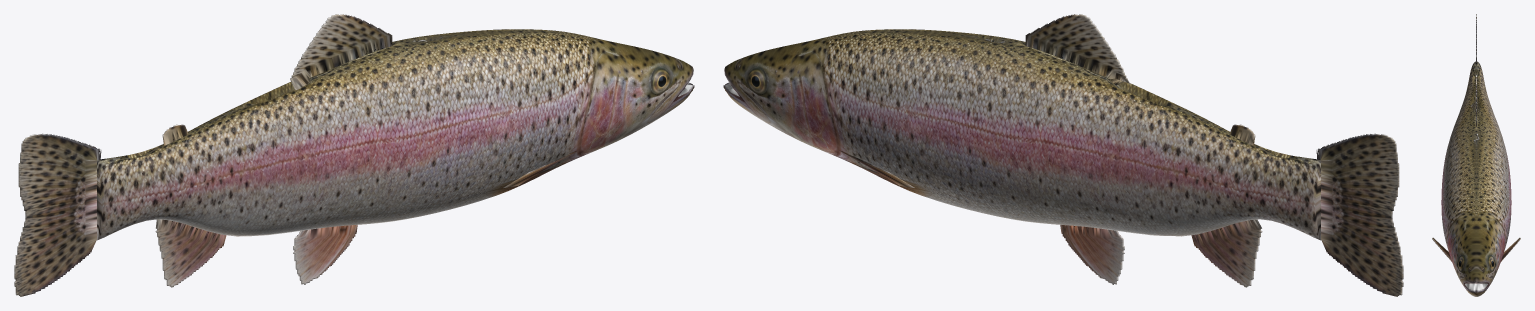
The model's file is rainbow_trout.glb.
3 renders of one model, left to right at view 1: azimuth 30°, elevation 25°; view 2: azimuth 150°, elevation 25°; view 3: azimuth 270°, elevation 25°, orthographic. The views are drawn at different scales.
Visible parts, largest first — view 1: rainbow_trout_realistic.003; view 2: rainbow_trout_realistic.003; view 3: rainbow_trout_realistic.003.
Boxes of the visible parts, left/top/right/bottom form: rainbow_trout_realistic.003: left=14, top=14, right=694, bottom=296; rainbow_trout_realistic.003: left=723, top=14, right=1403, bottom=296; rainbow_trout_realistic.003: left=1432, top=14, right=1520, bottom=296.
Bounding box in the file's own units: 1 × 0.3691 × 0.1761.
Materials: 3 (3 with a texture image).
